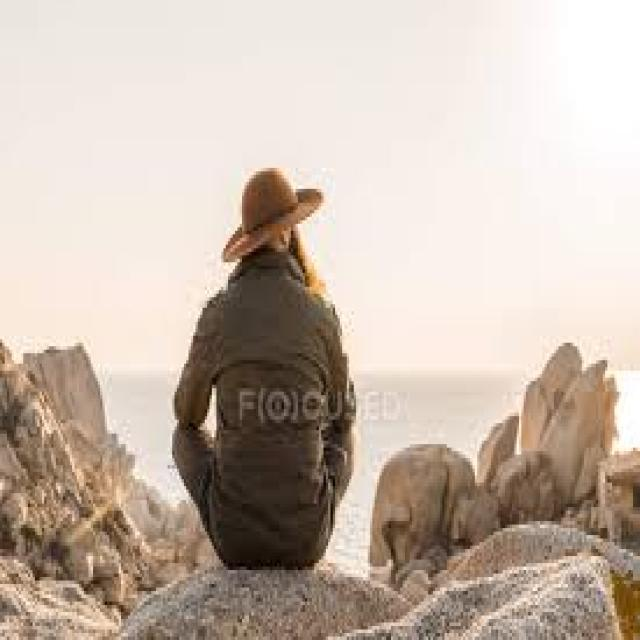hat: (226, 172, 326, 270)
